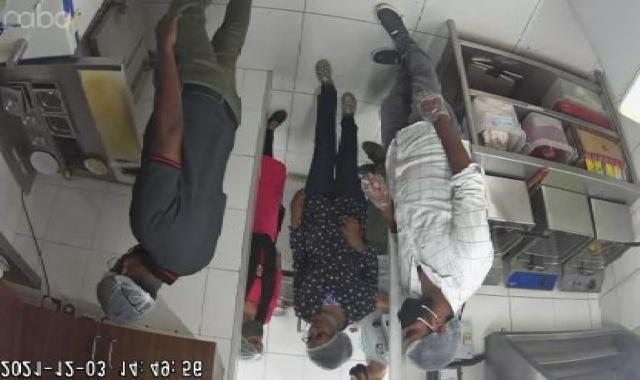hairnet: (80, 270, 156, 332), (402, 312, 474, 370), (299, 325, 363, 369), (230, 330, 267, 366)
